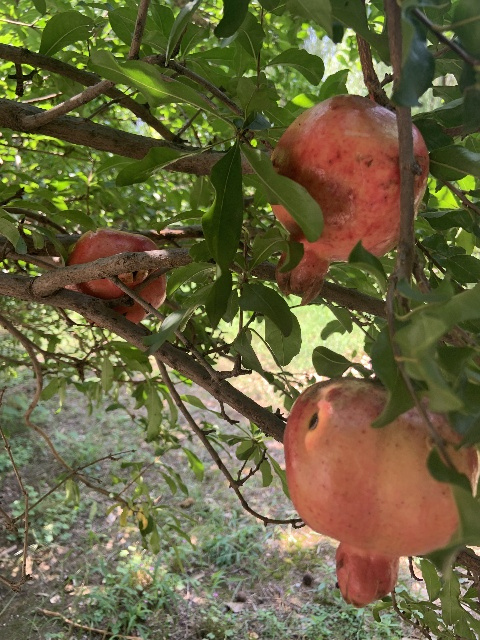ripe: (283, 374, 475, 607), (269, 95, 430, 304), (65, 229, 167, 323)
